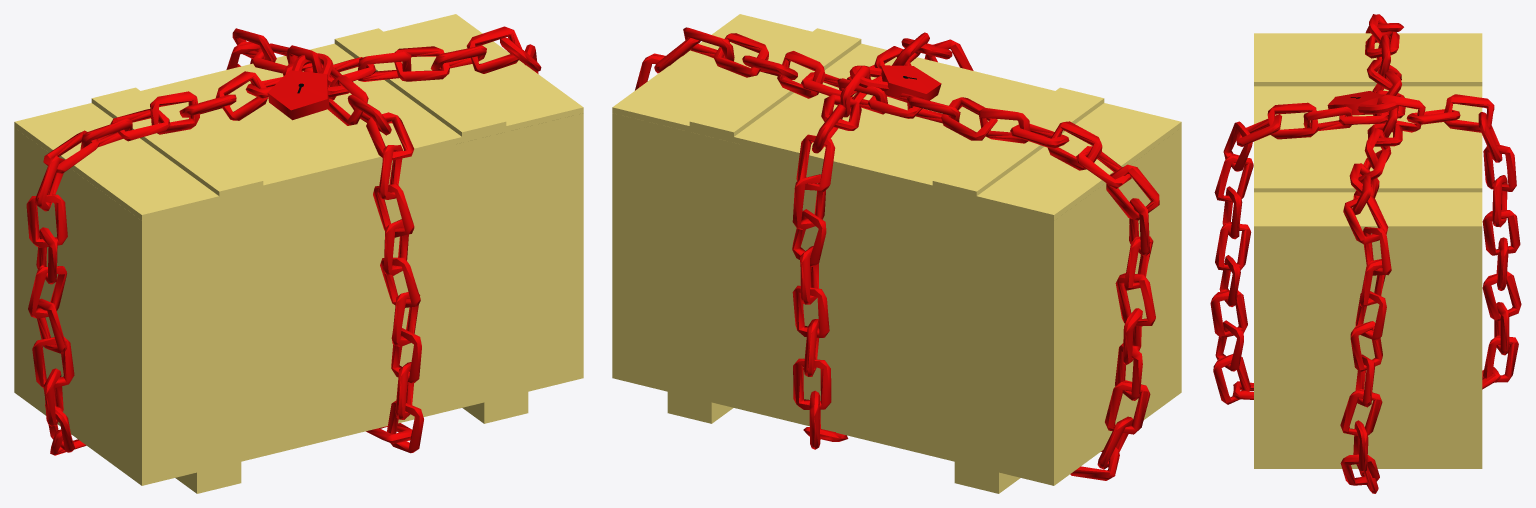
The picture shows the model from 3 angles, left to right: view 1: azimuth 30°, elevation 25°; view 2: azimuth 150°, elevation 25°; view 3: azimuth 270°, elevation 25°; orthographic projection. The views are drawn at different scales.
Parts seen in each view (by area): view 1: box, Deckel, Rectangle210, Rectangle135, Rectangle153, Rectangle141, Rectangle156, Rectangle134, Rectangle151, Rectangle205, Rectangle139, Rectangle202 (+20 smaller); view 2: box, Deckel, Rectangle210, Rectangle138, Rectangle127, Rectangle193, Rectangle201, Rectangle132, Rectangle152, Rectangle139, Rectangle185, Rectangle154 (+22 smaller); view 3: box, Deckel, Rectangle210, Rectangle208, Rectangle204, Rectangle155, Rectangle173, Rectangle199, Rectangle197, Rectangle167, Rectangle172, Rectangle192 (+32 smaller).
Boxes of the visible parts, x1,y1,x2,y2 form: box: [14, 113, 583, 493]; Deckel: [14, 14, 583, 220]; Rectangle210: [267, 53, 332, 120]; Rectangle135: [26, 194, 67, 247]; Rectangle153: [466, 26, 521, 73]; Rectangle141: [32, 337, 74, 388]; Rectangle156: [216, 71, 267, 120]; Rectangle134: [150, 91, 199, 134]; Rectangle151: [394, 46, 449, 81]; Rectangle205: [366, 112, 414, 160]; Rectangle139: [28, 266, 66, 318]; Rectangle202: [373, 184, 414, 237]; box: [612, 113, 1181, 493]; Deckel: [612, 14, 1181, 220]; Rectangle210: [849, 65, 941, 100]; Rectangle138: [1106, 164, 1159, 220]; Rectangle127: [1105, 380, 1150, 434]; Rectangle193: [793, 358, 831, 409]; Rectangle201: [796, 134, 835, 191]; Rectangle132: [1048, 121, 1102, 170]; Rectangle152: [713, 33, 768, 77]; Rectangle139: [1115, 273, 1155, 326]; Rectangle185: [792, 285, 829, 337]; Rectangle154: [777, 51, 825, 98]; box: [1254, 231, 1482, 468]; Deckel: [1254, 33, 1482, 231]; Rectangle210: [1327, 91, 1398, 115]; Rectangle208: [1267, 102, 1318, 139]; Rectangle204: [1444, 94, 1494, 132]; Rectangle155: [1343, 195, 1388, 244]; Rectangle173: [1210, 290, 1247, 338]; Rectangle199: [1482, 210, 1520, 255]; Rectangle197: [1482, 271, 1521, 321]; Rectangle167: [1340, 389, 1382, 435]; Rectangle172: [1215, 221, 1251, 270]; Rectangle192: [1483, 144, 1516, 191].
Size of the model in its own units: 237 by 152 by 136.
